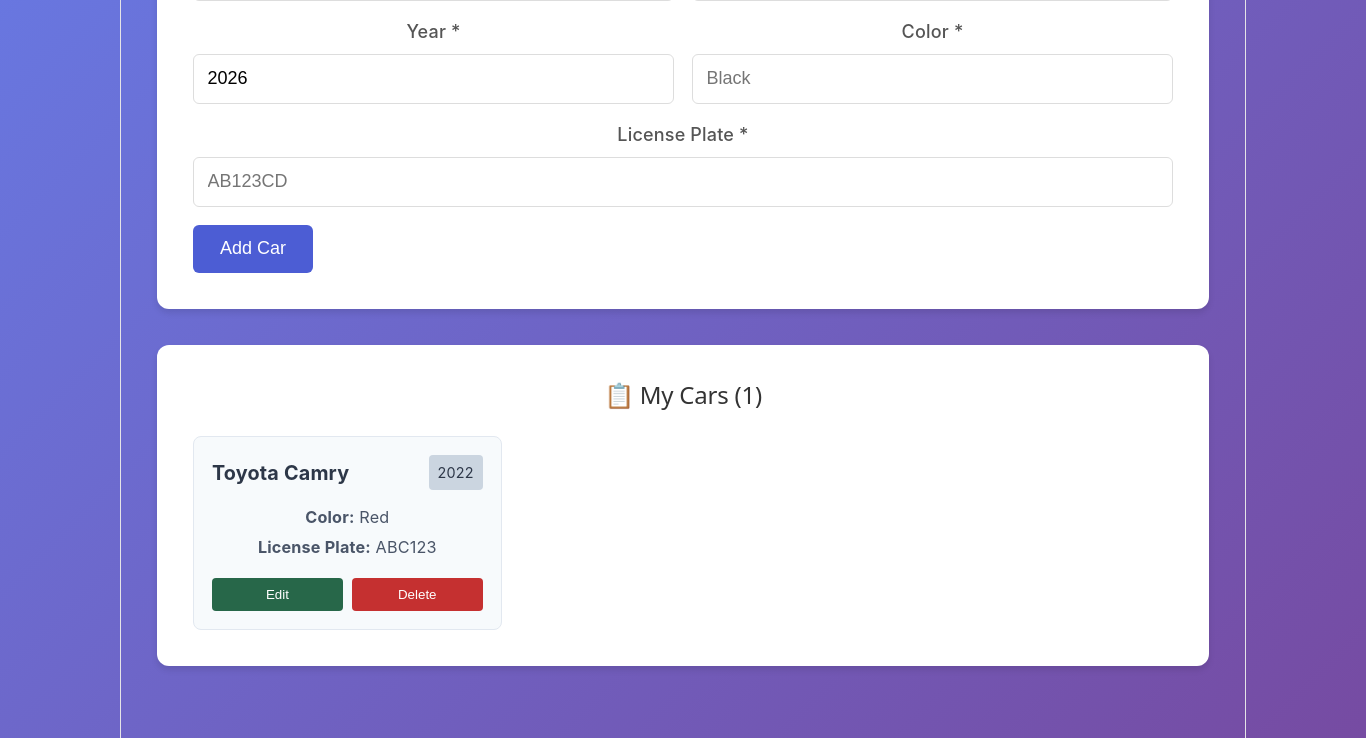
Test: App › cancels editing when cancel button is clicked
(page scrolled)
Expected: the heading "Toyota Camry" is shown, [212,460,349,486]
Click the button "Edit": (277,595) [212,578,343,611]
(page scrolled)
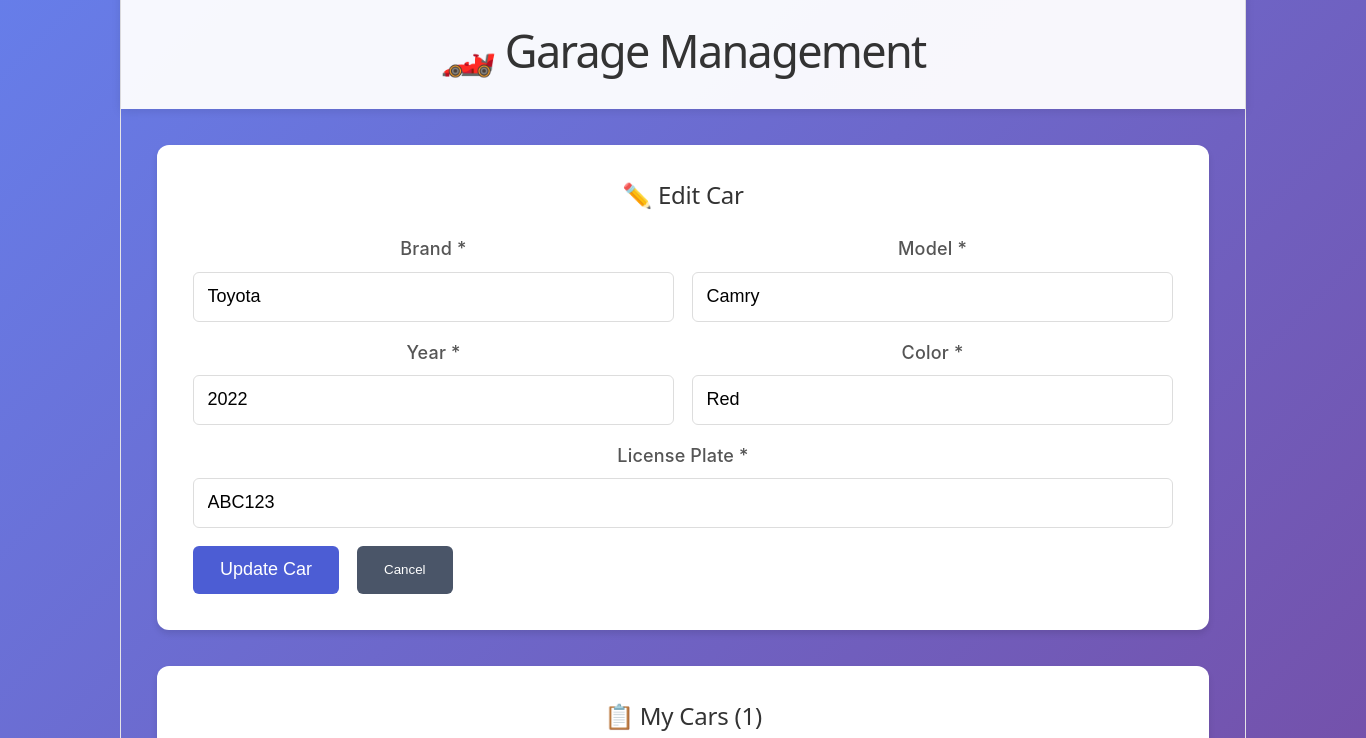
Expected: the button "Cancel" is shown
Click the button "Cancel": (405,570) [357,546,453,594]
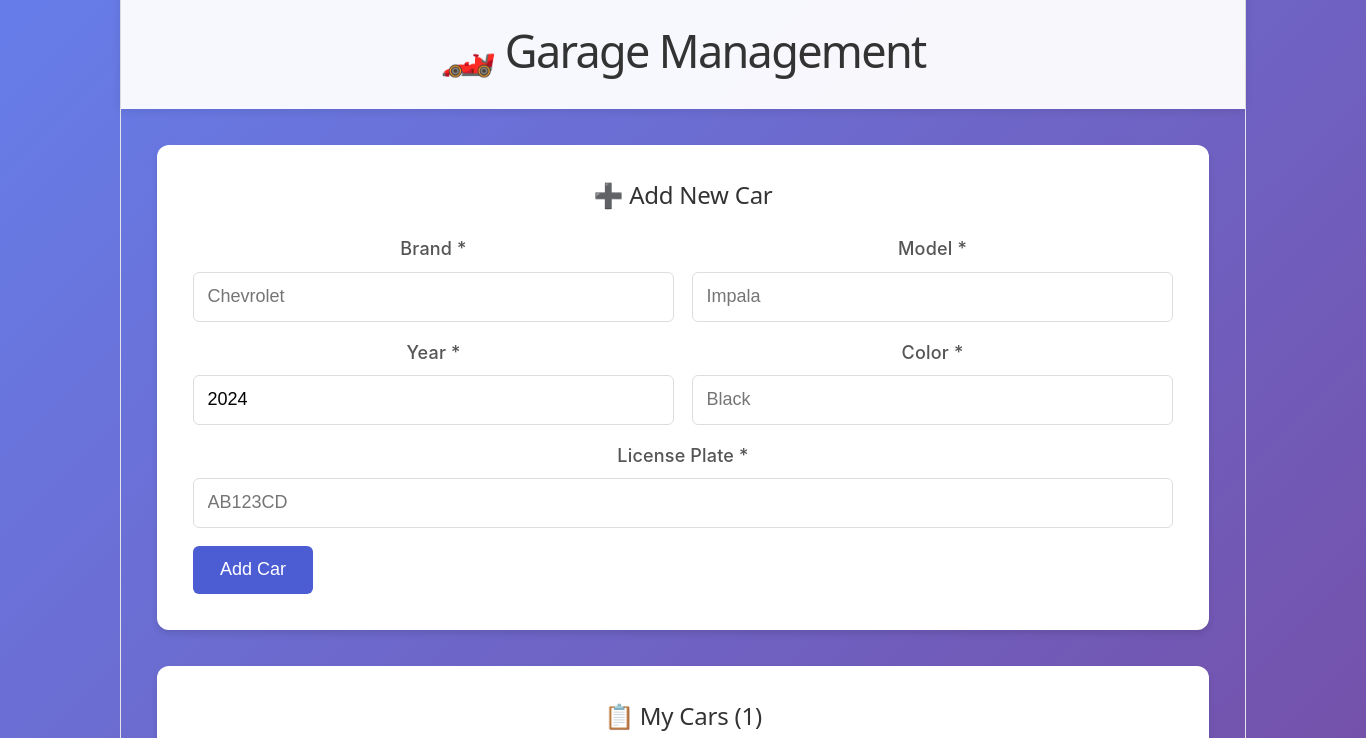
Expected: the button "Add Car" is shown, [193,546,313,594]
